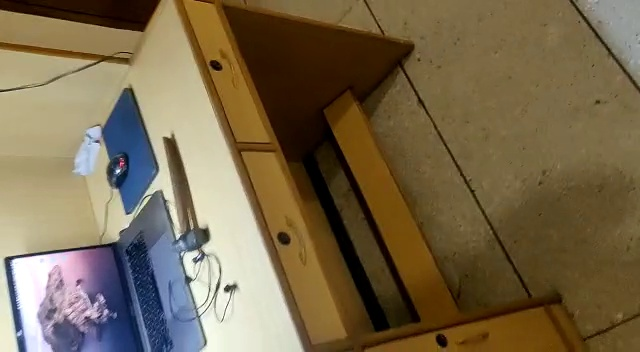hammer: (162, 136, 211, 254)
